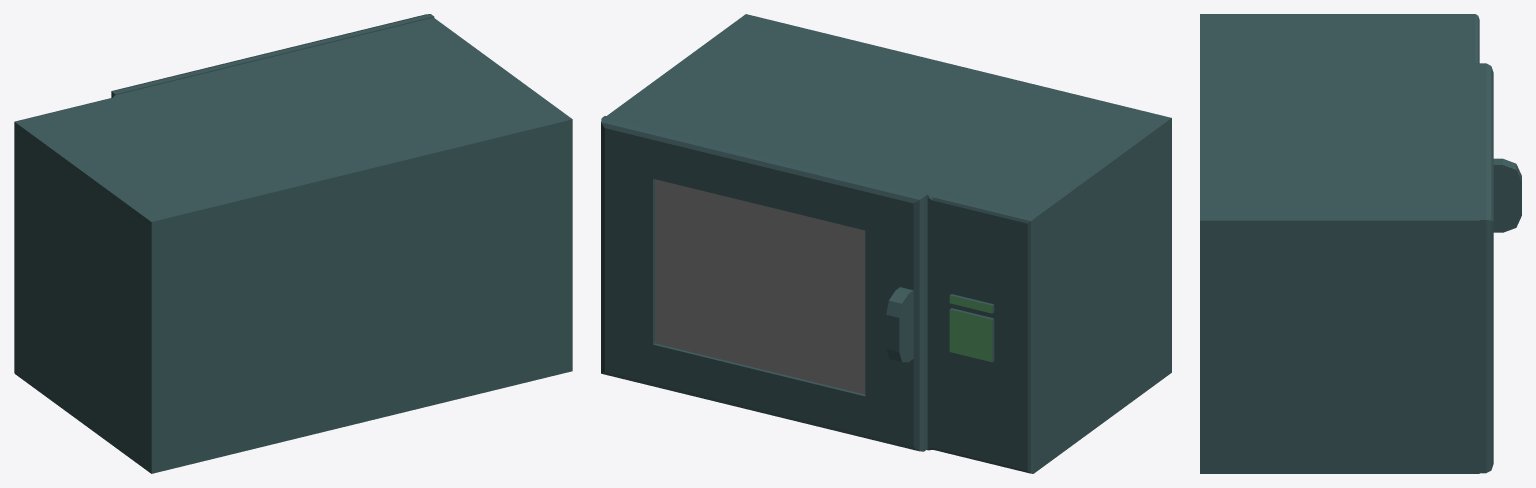
Rendered from Microwave.fbx.
3 renders of one model, left to right at view 1: azimuth 30°, elevation 25°; view 2: azimuth 150°, elevation 25°; view 3: azimuth 270°, elevation 25°, orthographic.
Parts seen in each view (by area): view 1: Microwave; view 2: Microwave; view 3: Microwave.
Part boxes in pixels (x1,y1,x2,y2): Microwave: (14, 14, 572, 473); Microwave: (601, 14, 1171, 473); Microwave: (1200, 14, 1521, 473).
Size of the model in its own units: 70.07 by 40.16 by 46.07.
